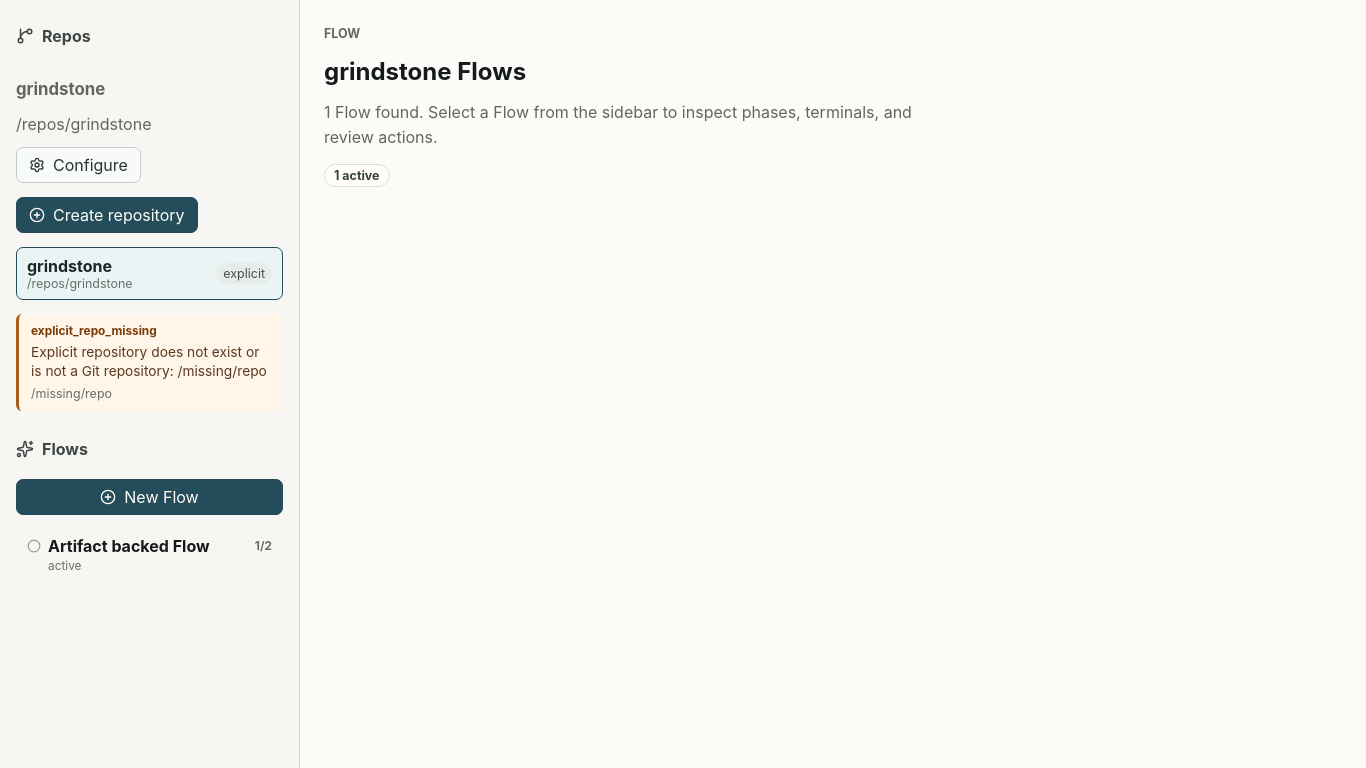
App shell › opens a linked plan from the selected Flow detail
What coordinates should you click on to do the following:
click the button "Artifact backed Flow 1/2 active"
I would click on:
 (150, 555)
Its box is [16, 527, 283, 582].
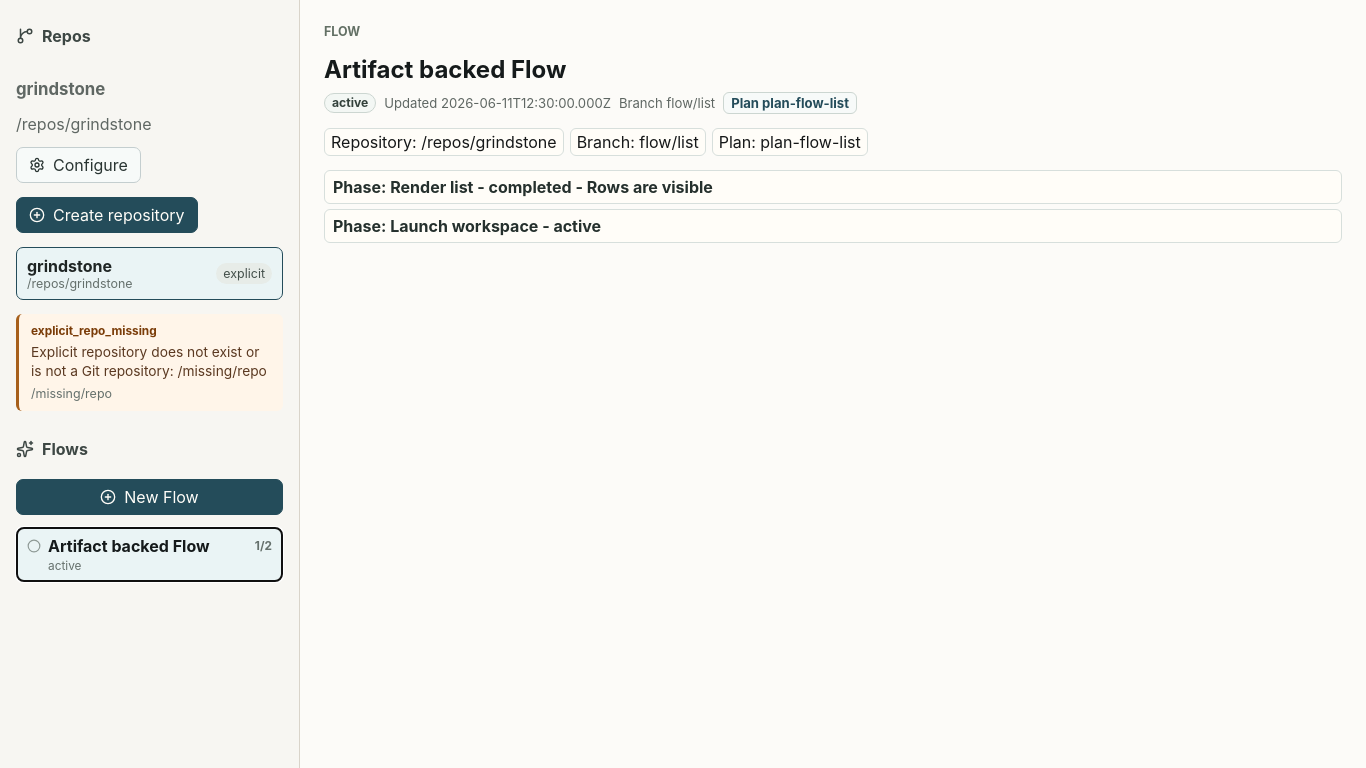
What coordinates should you click on to do the following:
click the button with aria-label "open plan plan-flow-list for artifact backed flow"
I would click on:
 (790, 103)
Its box is [723, 92, 857, 114].
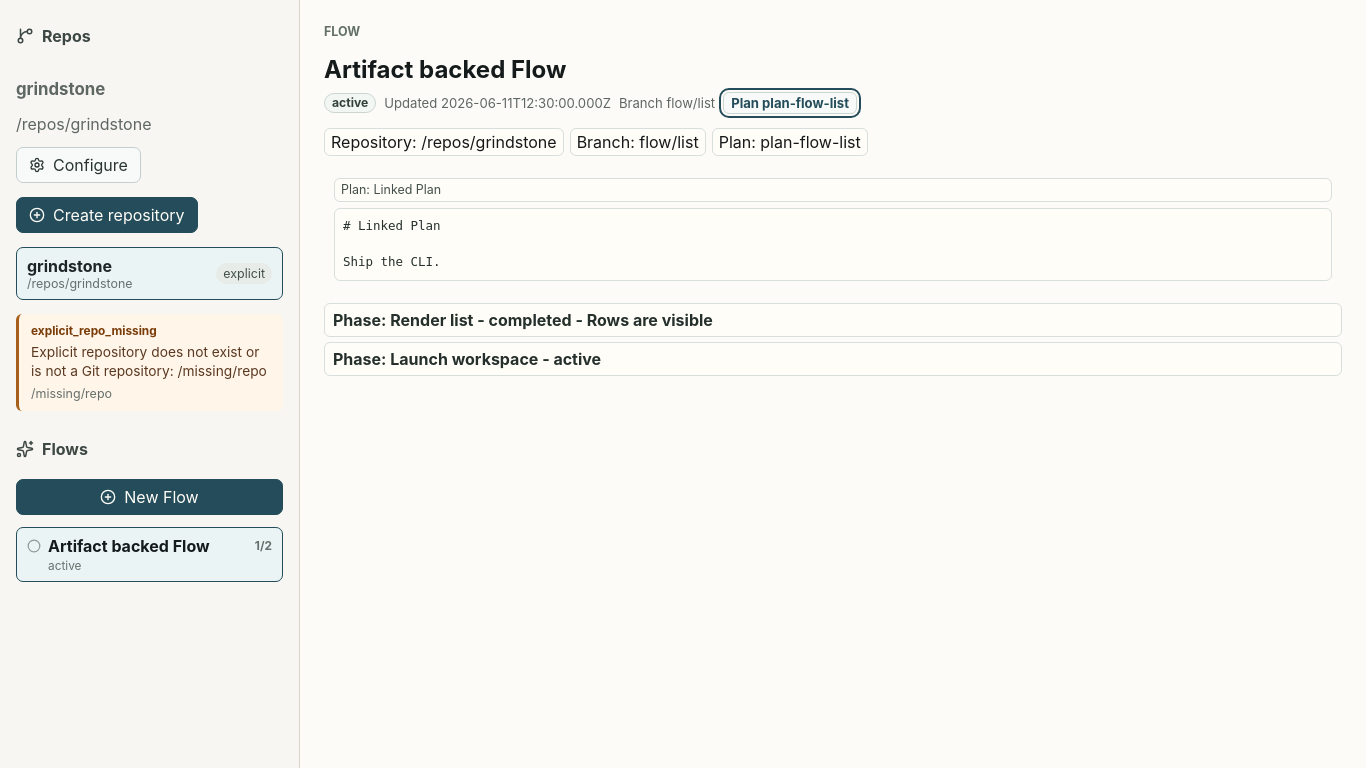
expect the element named "artifact backed flow linked plan" shows "Plan: Linked Plan": met, box [324, 170, 1342, 288]
expect the element named "artifact backed flow linked plan" shows "Ship the CLI.": met, box [343, 218, 441, 269]
